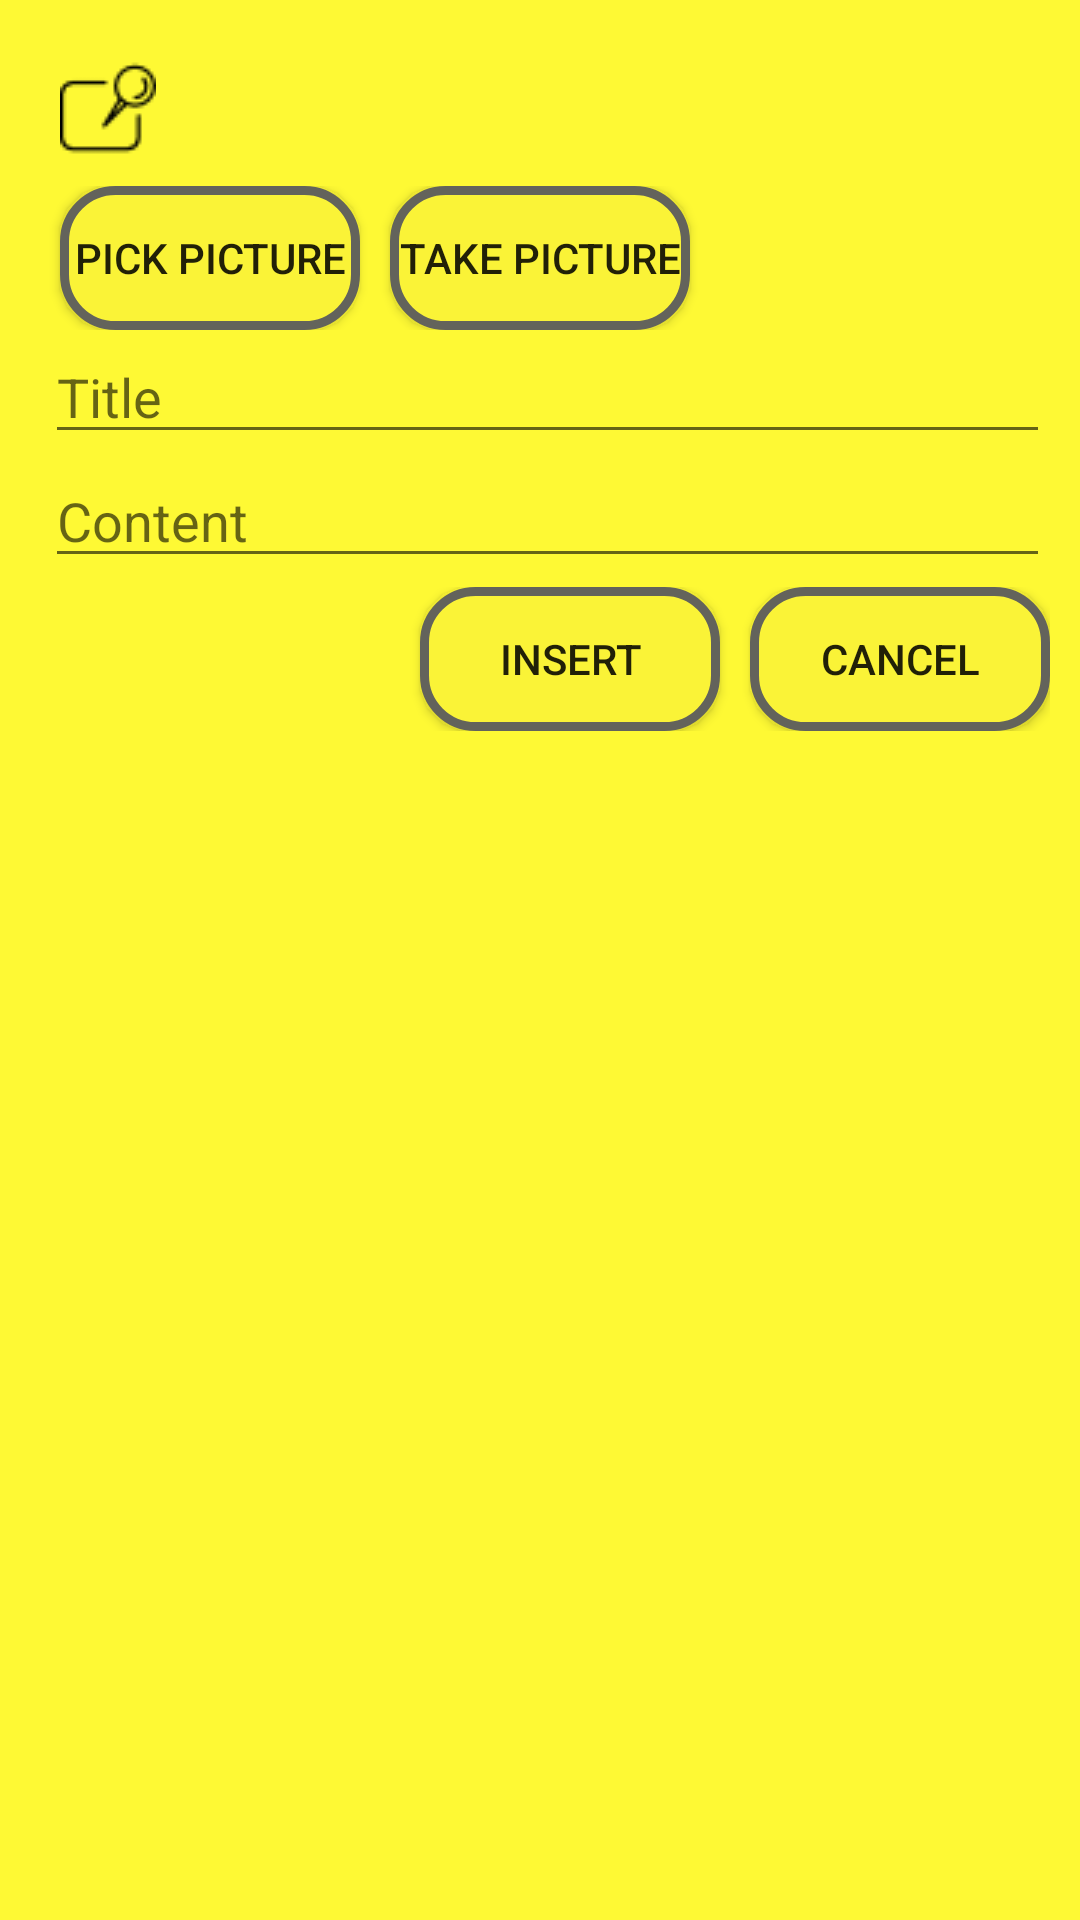

Named icons in this screenshot (1080 x 1920) and their centers, [x,y]:
board: [108,108]
